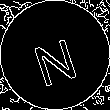N_N: (28, 25, 82, 85)
